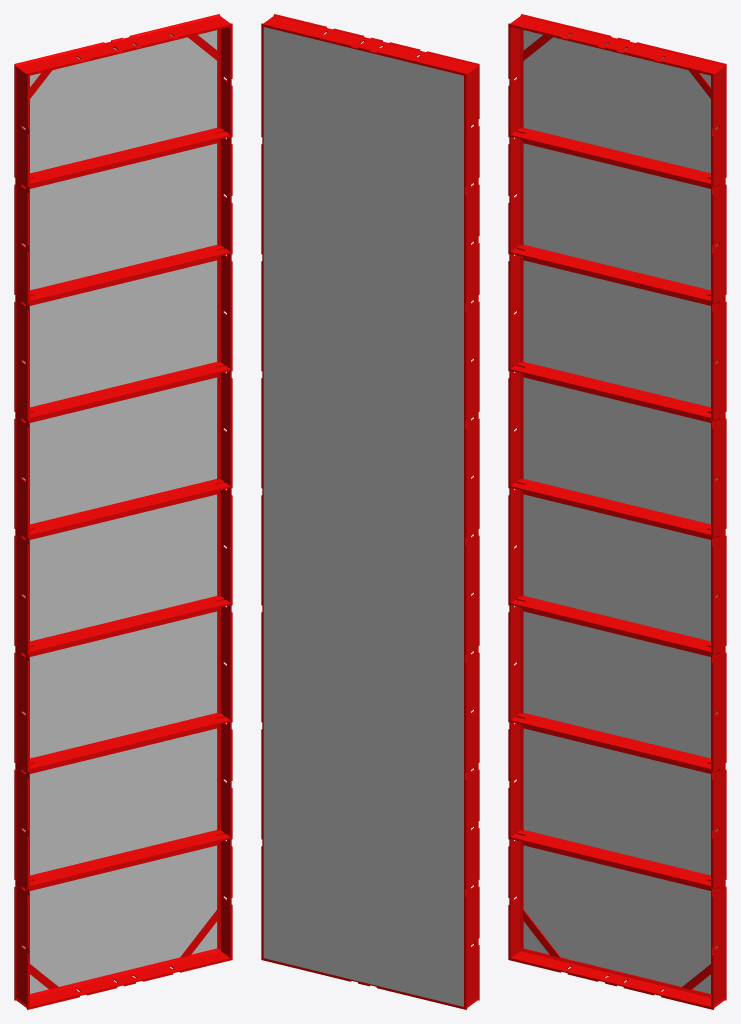
The picture shows the model from 3 angles, left to right: view 1: azimuth 30°, elevation 25°; view 2: azimuth 150°, elevation 25°; view 3: azimuth 330°, elevation 25°; orthographic projection.
Parts seen in each view (by area): view 1: Sp-22X8-P, Sp-22X8; view 2: Sp-22X8-P, Sp-22X8; view 3: Sp-22X8-P, Sp-22X8.
Boxes of the visible parts, x1,y1,x2,y2 form: Sp-22X8-P: (22, 30, 217, 993); Sp-22X8: (14, 14, 232, 1009); Sp-22X8-P: (263, 27, 463, 1006); Sp-22X8: (261, 14, 479, 1009); Sp-22X8-P: (523, 30, 718, 993); Sp-22X8: (508, 14, 726, 1009).
Bounding box in the file's own units: 22 × 96 × 2.5.
